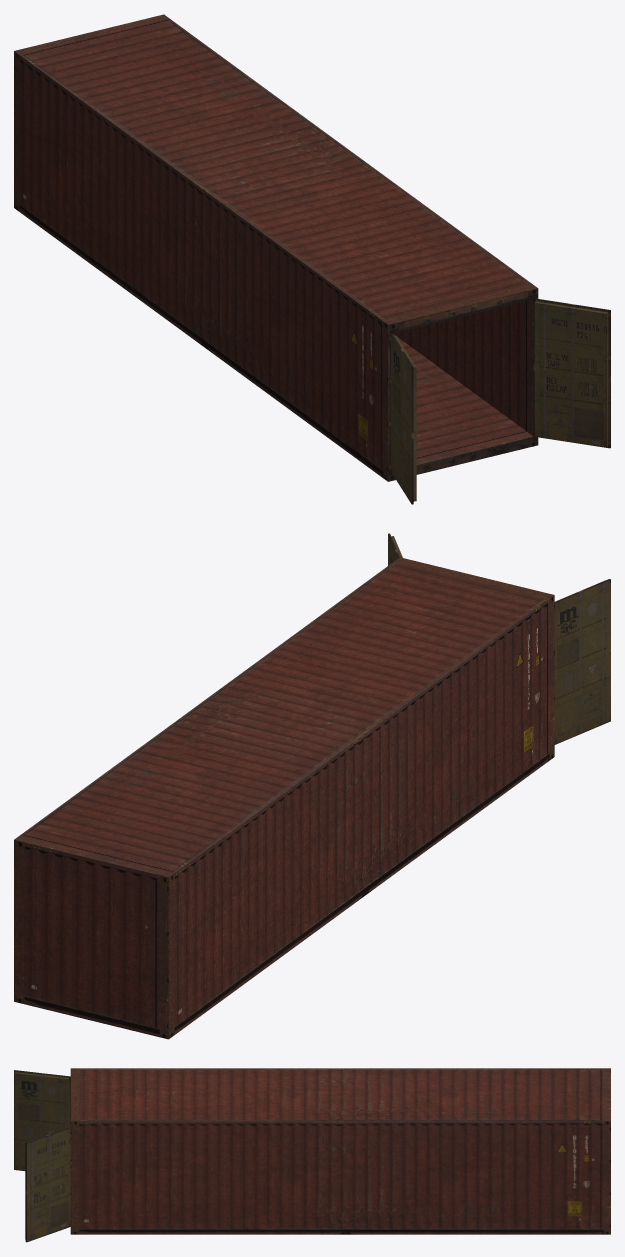
Rendered from shipping_container_mx_1_hollow_1.dae.
The picture shows the model from 3 angles, top to bottom: view 1: azimuth 30°, elevation 25°; view 2: azimuth 150°, elevation 25°; view 3: azimuth 270°, elevation 25°; orthographic projection. The views are drawn at different scales.
Parts seen in each view (by area): view 1: shipping_container_mx_1_hollow_1; view 2: shipping_container_mx_1_hollow_1; view 3: shipping_container_mx_1_hollow_1.
Boxes of the visible parts, <box> form: shipping_container_mx_1_hollow_1: <box>14,14,610,504</box>; shipping_container_mx_1_hollow_1: <box>14,533,610,1039</box>; shipping_container_mx_1_hollow_1: <box>14,1068,610,1242</box>.
Size of the model in its own units: 3.46 by 11.94 by 2.5.
Materials: 1 (1 with a texture image).
